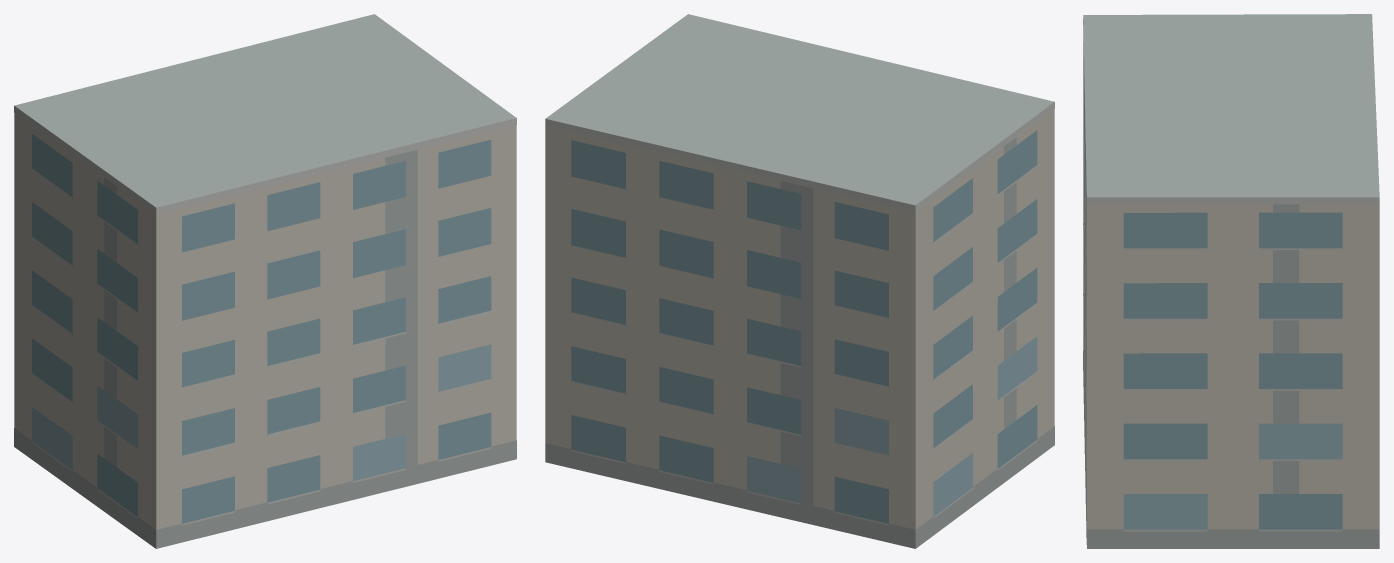
File: survey-upis-32520135.glb
3 views of the same model, side by side, from view 1: azimuth 30°, elevation 25°; view 2: azimuth 150°, elevation 25°; view 3: azimuth 270°, elevation 25° (orthographic). The views are drawn at different scales.
Visible parts, largest first — view 1: survey-upis-32520135.tmp; view 2: survey-upis-32520135.tmp; view 3: survey-upis-32520135.tmp.
Part boxes in pixels (x1,y1,x2,y2): survey-upis-32520135.tmp: [14, 14, 516, 548]; survey-upis-32520135.tmp: [545, 14, 1054, 548]; survey-upis-32520135.tmp: [1083, 14, 1379, 548].
Size of the model in its own units: 13.54 by 12.1 by 9.26.
